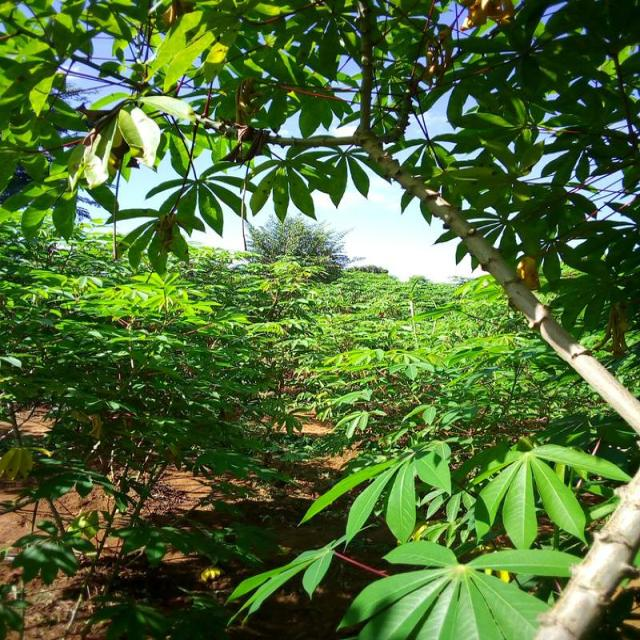cassava leaf: (334, 539, 581, 639)
